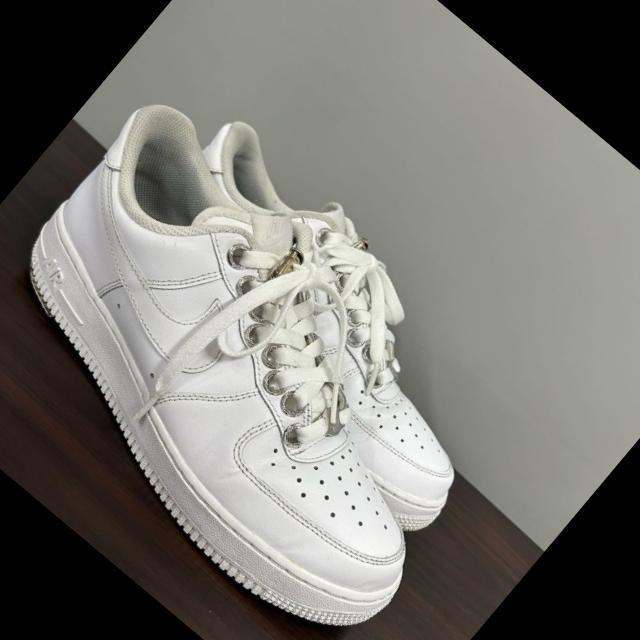nike original air force: (0, 86, 545, 640), (100, 115, 556, 545)
